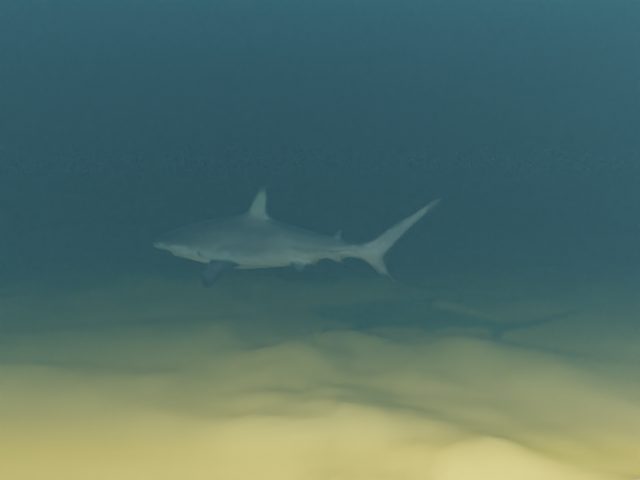Carribean Shark.001: (152, 185, 442, 287)
